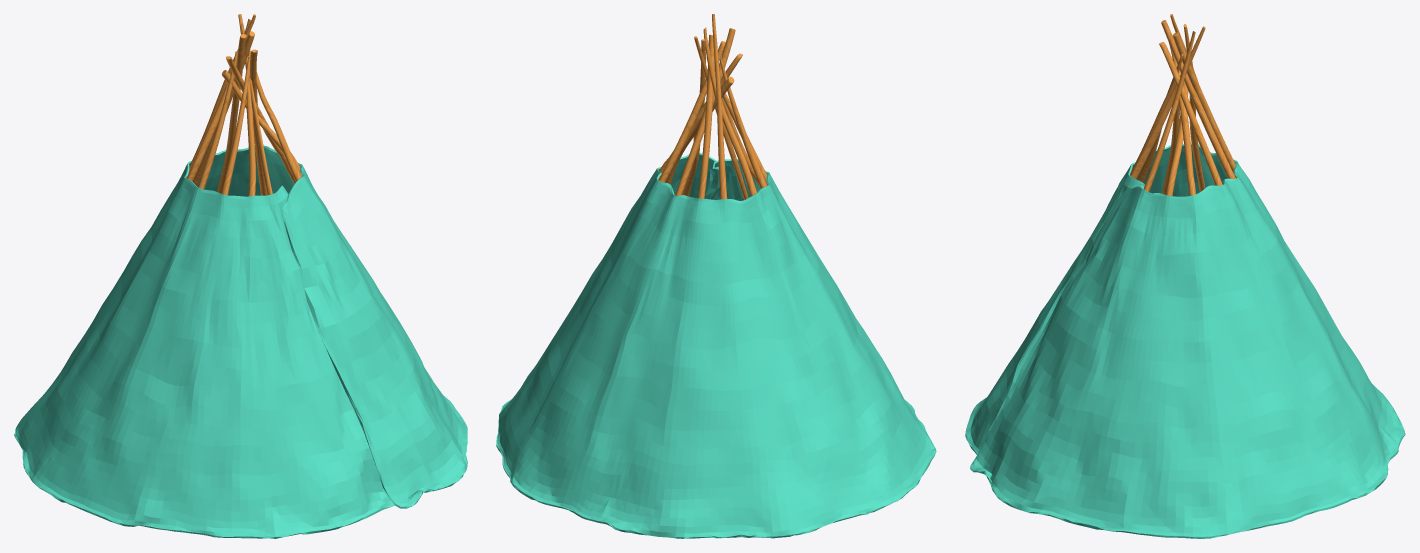
Rendered from tiendaCampaña.FBX.
3 views of the same model, side by side, from view 1: azimuth 30°, elevation 25°; view 2: azimuth 150°, elevation 25°; view 3: azimuth 270°, elevation 25° (orthographic).
Visible parts, largest first — view 1: Helix003, Line044, Line053, Line052, Line050, Line051, Line047, Line049, Line042, Line043; view 2: Helix003, Line046, Line045, Line047, Line044, Line042, Line052, Line049, Line050; view 3: Helix003, Line044, Line042, Line050, Line045, Line049, Line043, Line047, Line048.
Part boxes in pixels (x1,y1,x2,y2): Helix003: (14, 145, 467, 538); Line044: (217, 34, 246, 193); Line053: (221, 51, 250, 195); Line052: (198, 51, 237, 189); Line050: (241, 23, 301, 181); Line051: (246, 78, 255, 196); Line047: (187, 19, 250, 181); Line049: (238, 14, 272, 194); Line042: (250, 49, 267, 195); Line043: (226, 56, 295, 183); Helix003: (496, 153, 936, 538); Line046: (712, 14, 727, 199); Line045: (698, 34, 714, 198); Line047: (703, 27, 756, 196); Line044: (675, 28, 735, 195); Line042: (659, 41, 725, 182); Line052: (719, 57, 767, 188); Line049: (694, 36, 748, 199); Line050: (682, 39, 705, 196); Helix003: (965, 143, 1405, 538); Line044: (1161, 20, 1235, 178); Line042: (1159, 42, 1222, 185); Line050: (1143, 31, 1195, 191); Line045: (1172, 32, 1236, 177); Line049: (1131, 26, 1205, 178); Line043: (1169, 43, 1195, 195); Line047: (1183, 24, 1205, 191); Line048: (1166, 81, 1188, 195).
Size of the model in its own units: 1262 by 1312 by 1213.
